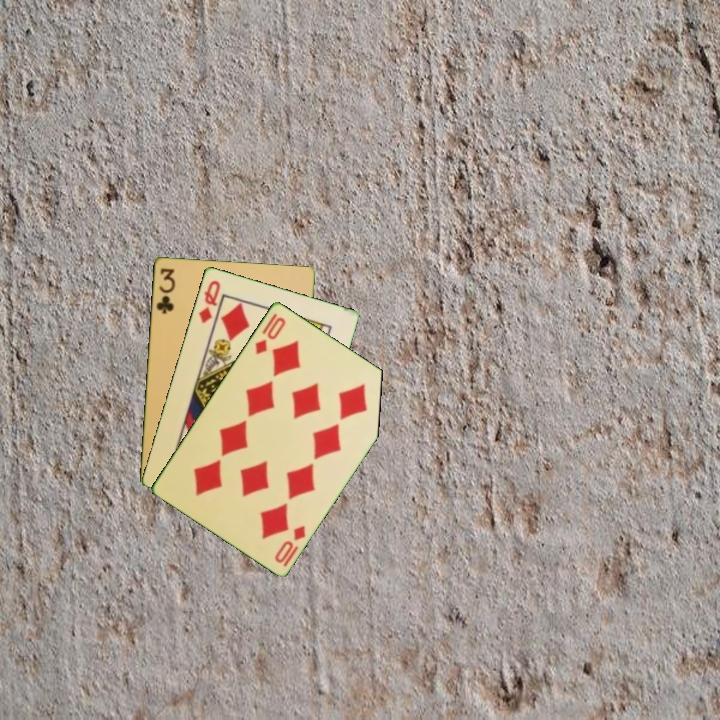10d: (271, 521, 308, 566), (251, 313, 288, 357)
3c: (152, 264, 178, 316)
Qd: (195, 276, 223, 326)
